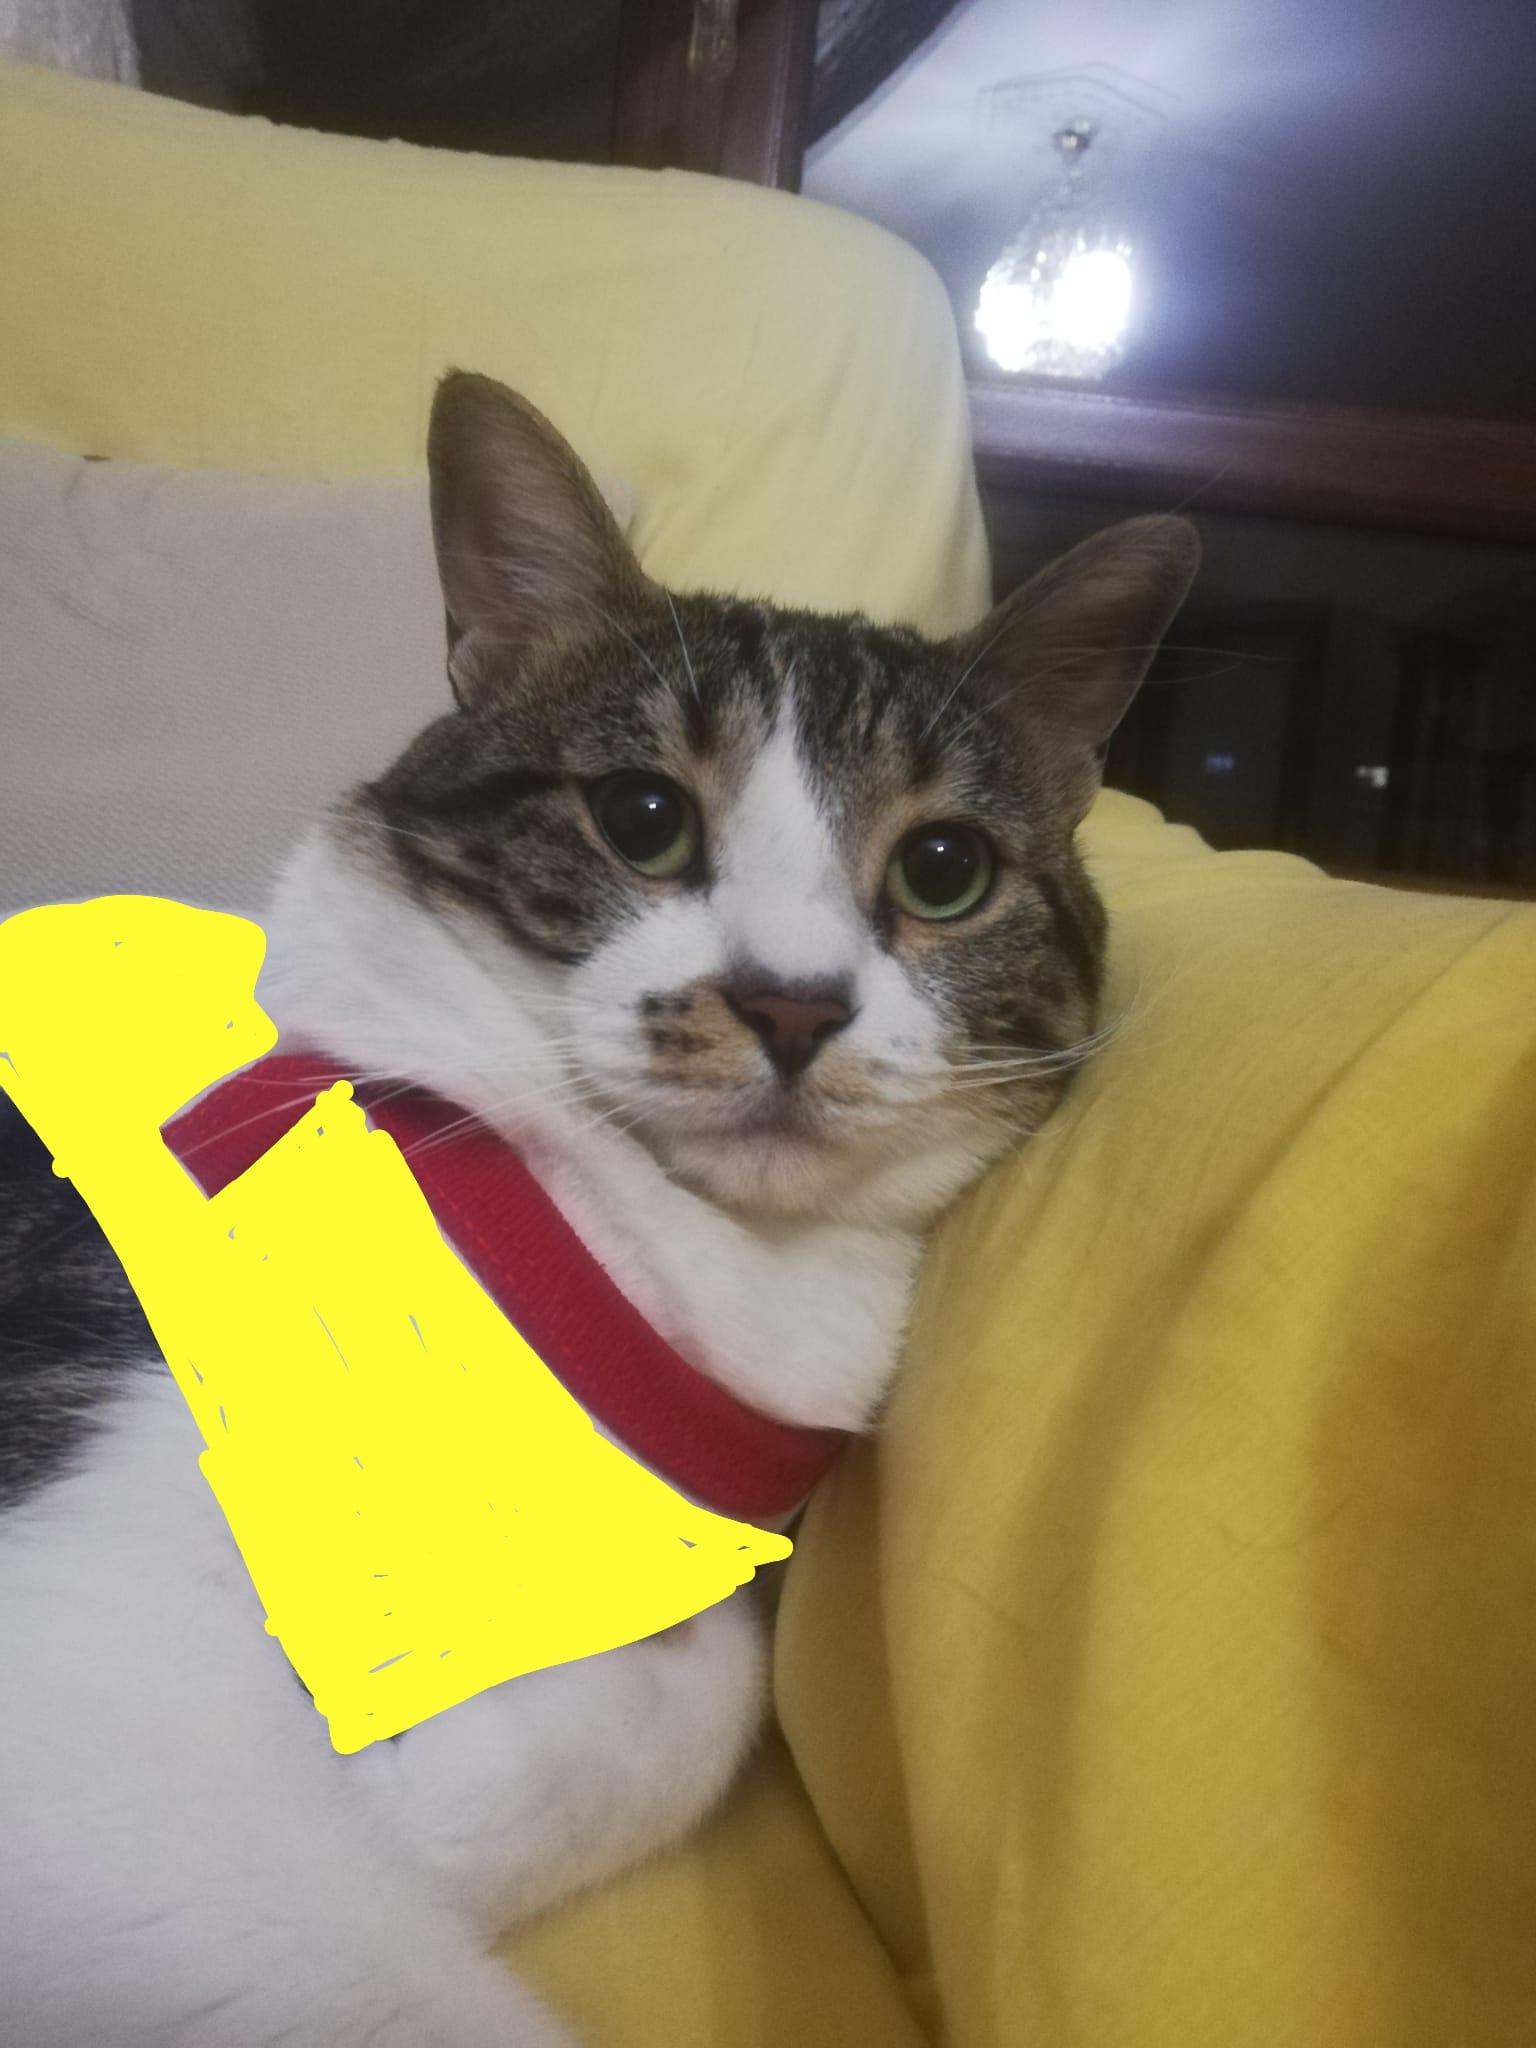kedo: (0, 364, 1187, 2048)
